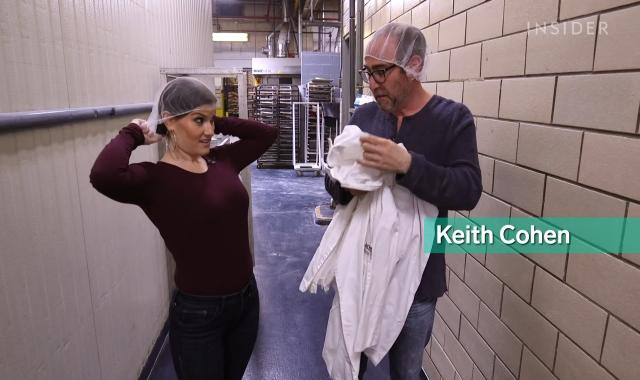hairnet: (150, 76, 217, 129), (358, 24, 426, 76)
